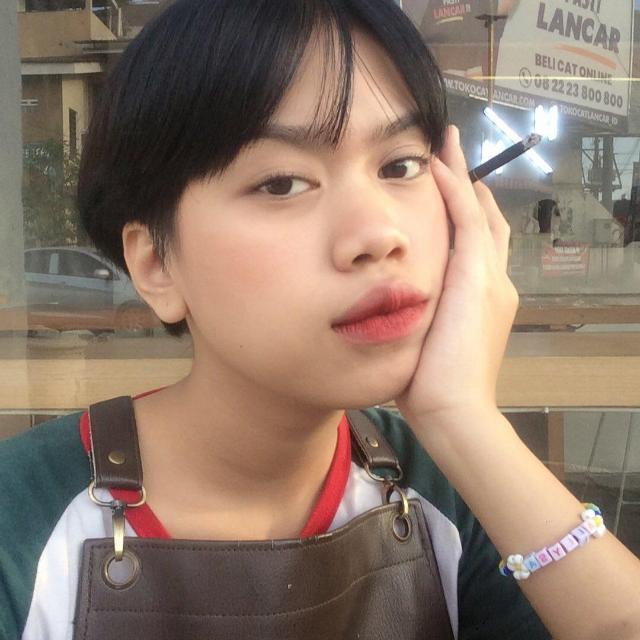rokok: (468, 132, 540, 188)
